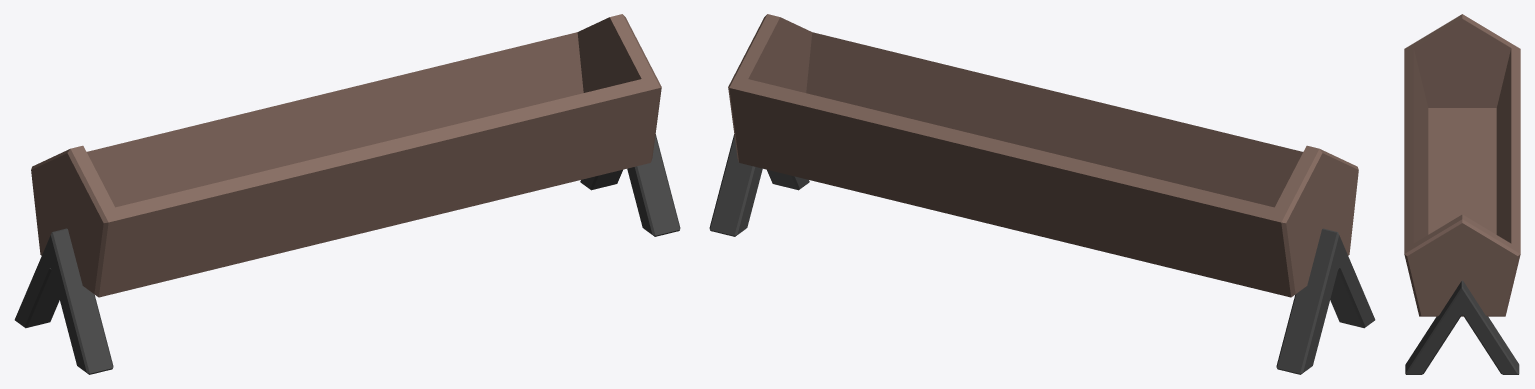
The model's file is littlefoodholder_b002.glb.
The picture shows the model from 3 angles, left to right: view 1: azimuth 30°, elevation 25°; view 2: azimuth 150°, elevation 25°; view 3: azimuth 270°, elevation 25°; orthographic projection. The views are drawn at different scales.
Parts seen in each view (by area): view 1: littlefoodholder_b002; view 2: littlefoodholder_b002; view 3: littlefoodholder_b002.
Part boxes in pixels (left/top/right/bottom): littlefoodholder_b002: left=14, top=14, right=680, bottom=374; littlefoodholder_b002: left=709, top=14, right=1375, bottom=374; littlefoodholder_b002: left=1404, top=14, right=1520, bottom=374.
Size of the model in its own units: 1.59 by 0.498 by 0.3539.
1 material, 1 textured.
